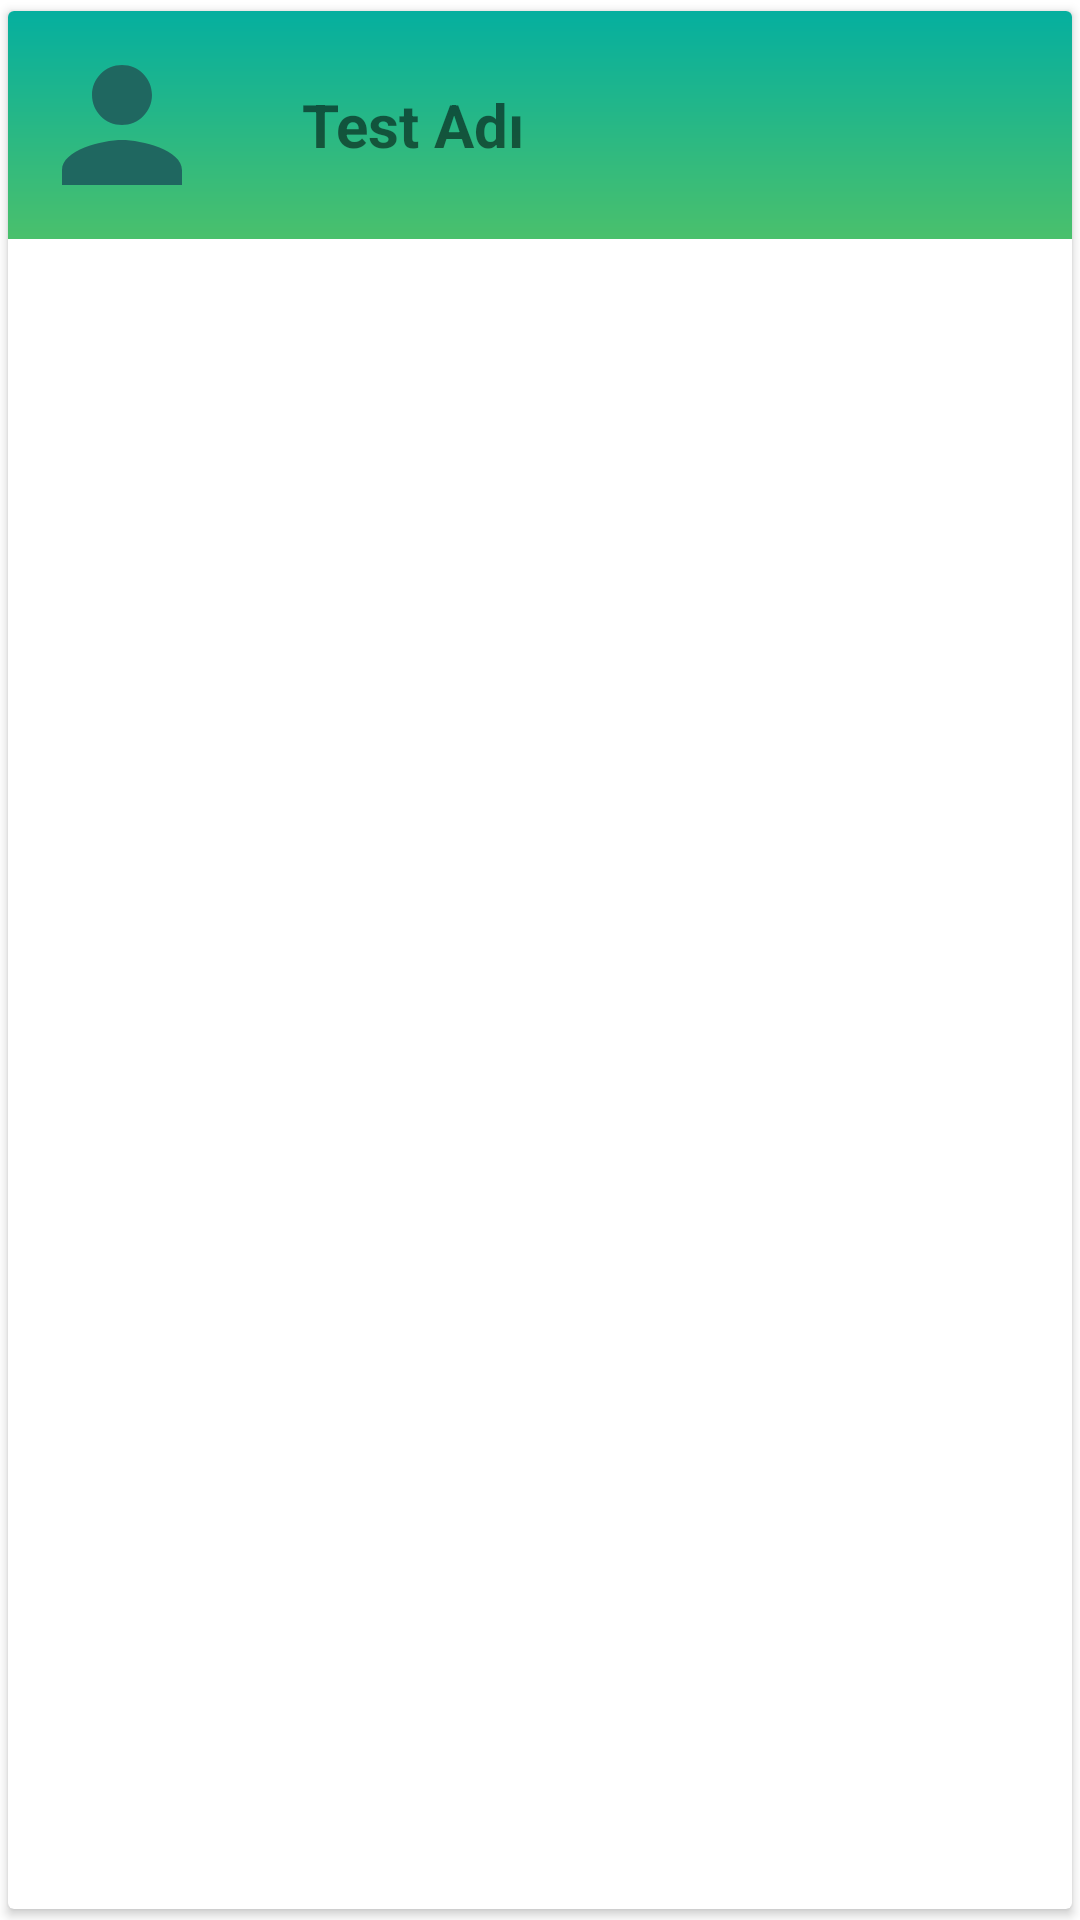

Named icons in this screenshot (1080×1920) and their centers, (x=x, y=y):
person: (x=122, y=125)
